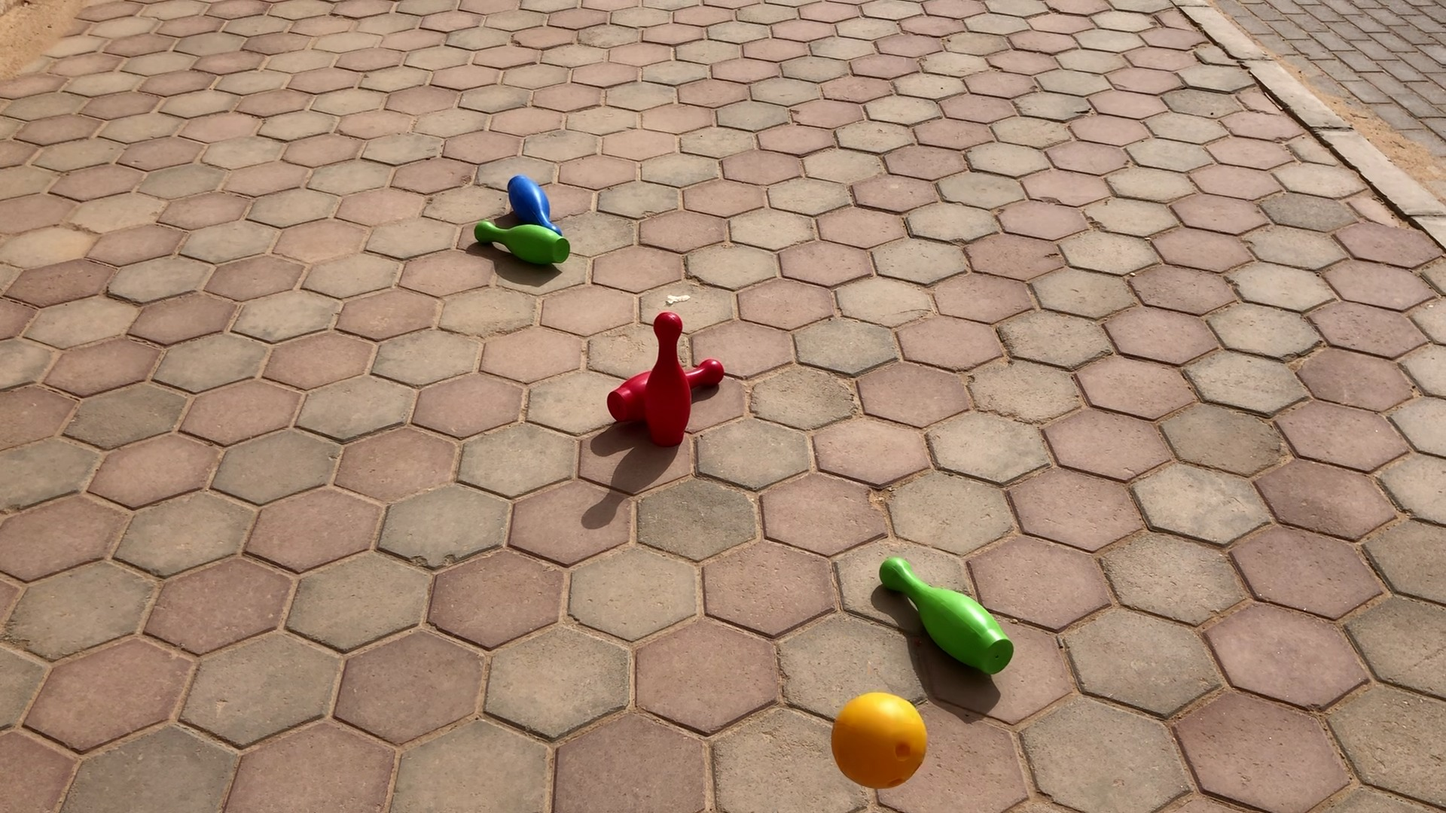pin: (884, 556, 1013, 672), (644, 309, 692, 441), (478, 221, 569, 264), (508, 175, 556, 231)
